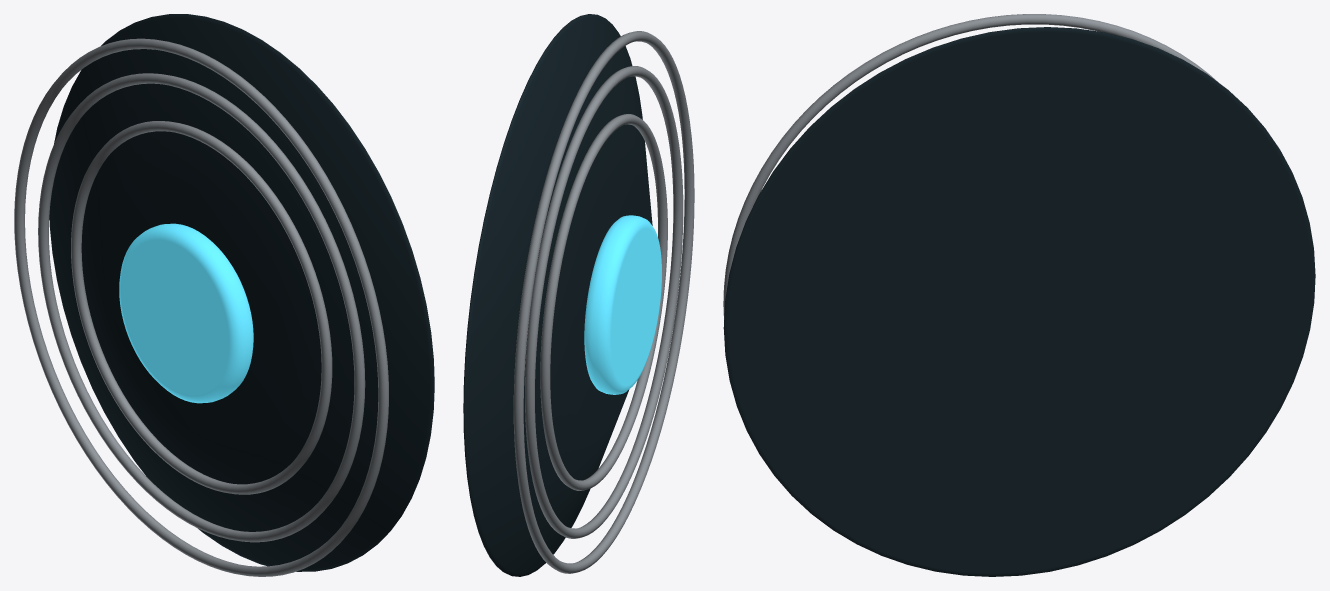
The model's file is SM_HC2_BeatSpeaker_001.fbx.
The picture shows the model from 3 angles, left to right: view 1: azimuth 30°, elevation 25°; view 2: azimuth 150°, elevation 25°; view 3: azimuth 270°, elevation 25°; orthographic projection. The views are drawn at different scales.
Visible parts, largest first — view 1: SM_HC2_BeatSpeaker_001; view 2: SM_HC2_BeatSpeaker_001; view 3: SM_HC2_BeatSpeaker_001.
Part boxes in pixels (x1,y1,x2,y2): SM_HC2_BeatSpeaker_001: [14, 14, 434, 576]; SM_HC2_BeatSpeaker_001: [463, 14, 694, 576]; SM_HC2_BeatSpeaker_001: [723, 14, 1315, 576].
Bounding box in the file's own units: 37.93 × 127 × 129.
